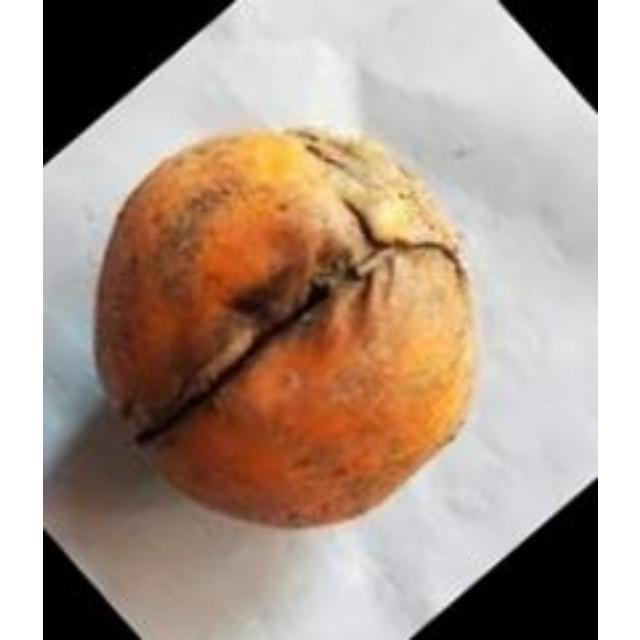damaged: (87, 125, 485, 534)
